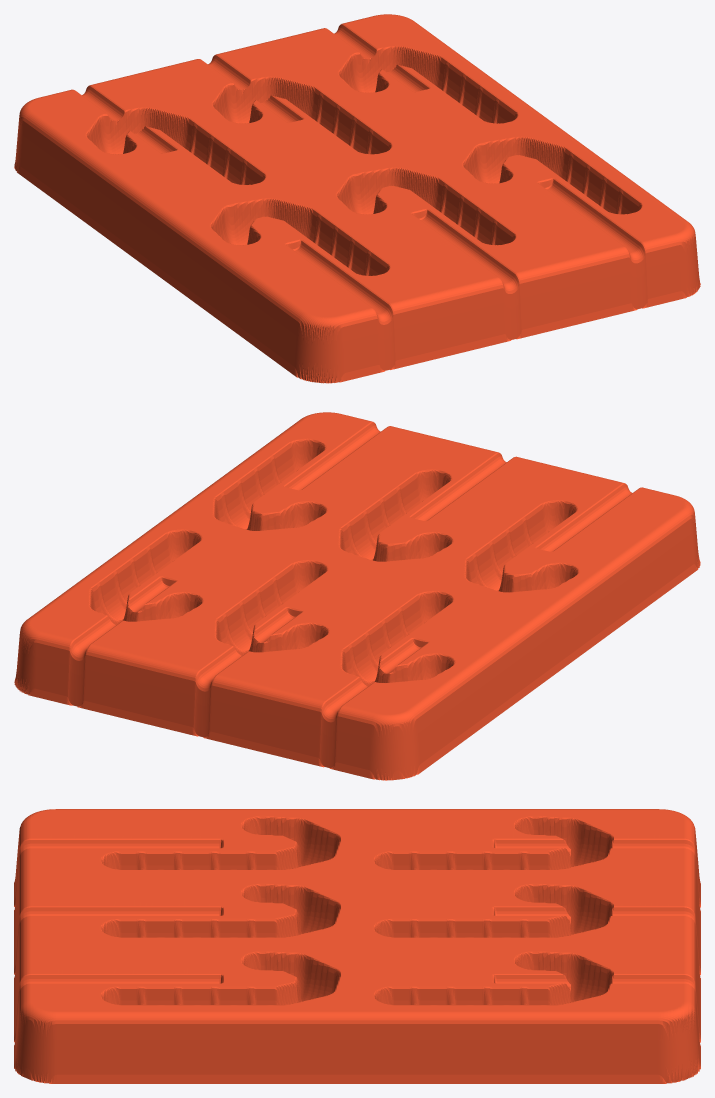
File: mold.glb
3 views of the same model, one above another, from view 1: azimuth 30°, elevation 25°; view 2: azimuth 150°, elevation 25°; view 3: azimuth 270°, elevation 25° (orthographic). The views are drawn at different scales.
Parts seen in each view (by area): view 1: geometry_0; view 2: geometry_0; view 3: geometry_0.
Boxes of the visible parts, x1,y1,x2,y2 form: geometry_0: (14, 14, 700, 383); geometry_0: (14, 412, 700, 780); geometry_0: (14, 809, 700, 1083).
Bounding box in the file's own units: 0.1096 × 0.0155 × 0.1477.
